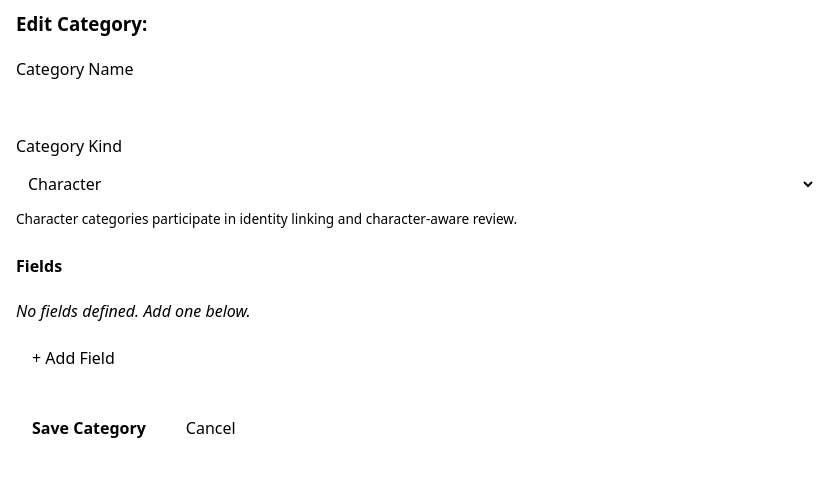
Test case: CategoryEditor field validation › renders the missing category name error beside the name input
Click the button "Save Category" at (89, 428), box [16,409,162,447]
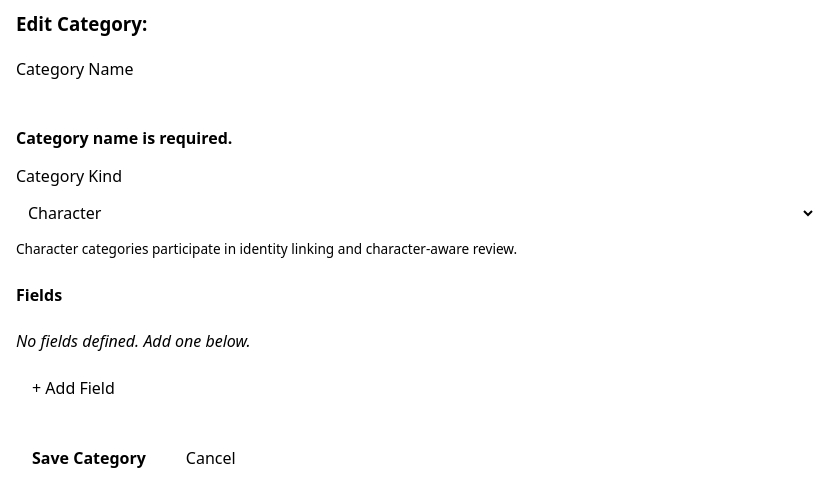
Result: the message reads "Category name is required." at [16,127,232,149]
